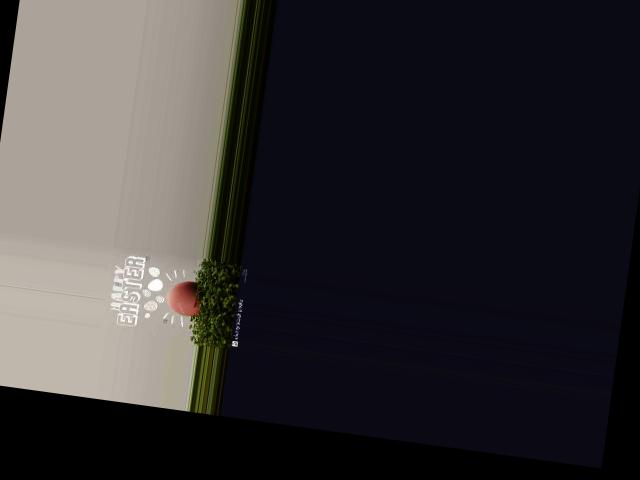egg: (165, 277, 203, 316)
